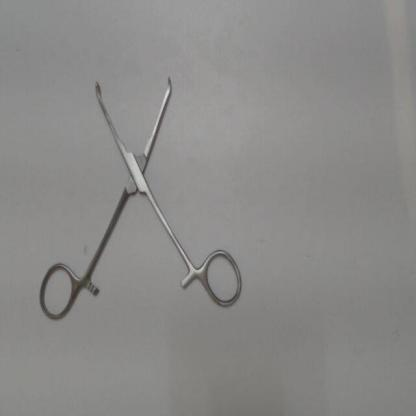Allis Tissue Forceps: (28, 64, 248, 330)
